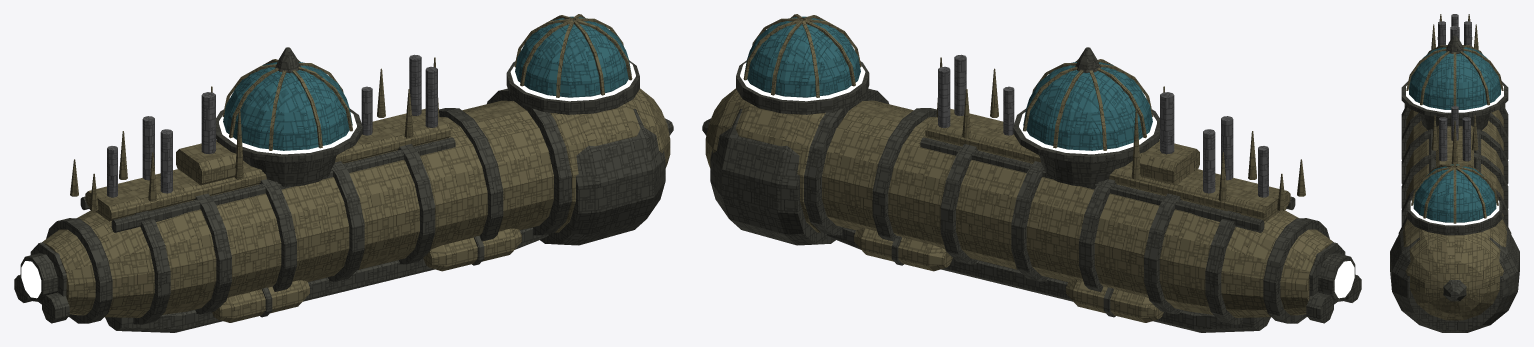
File: water_lod1.glb
The picture shows the model from 3 angles, left to right: view 1: azimuth 30°, elevation 25°; view 2: azimuth 150°, elevation 25°; view 3: azimuth 270°, elevation 25°; orthographic projection. The views are drawn at different scales.
Parts seen in each view (by area): view 1: water_lod1_body, water_lod1_glow; view 2: water_lod1_body, water_lod1_glow; view 3: water_lod1_body, water_lod1_glow.
Part boxes in pixels (x1,y1,x2,y2): water_lod1_body: (14,14,673,332); water_lod1_glow: (21,62,635,298); water_lod1_body: (702,14,1361,332); water_lod1_glow: (740,62,1354,298); water_lod1_body: (1390,14,1519,332); water_lod1_glow: (1406,85,1503,225).
Bounding box in the file's own units: 22.64 × 8.6 × 5.49.
2 materials, 1 textured.
